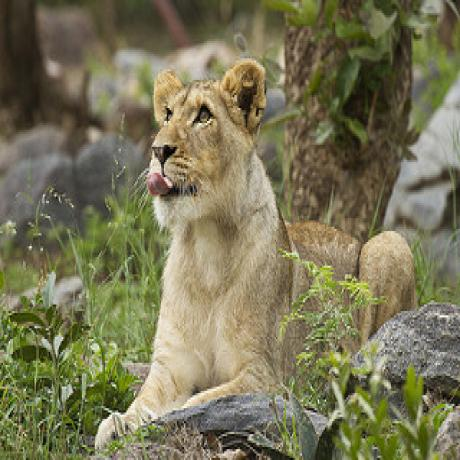Lion: (108, 57, 420, 460)
